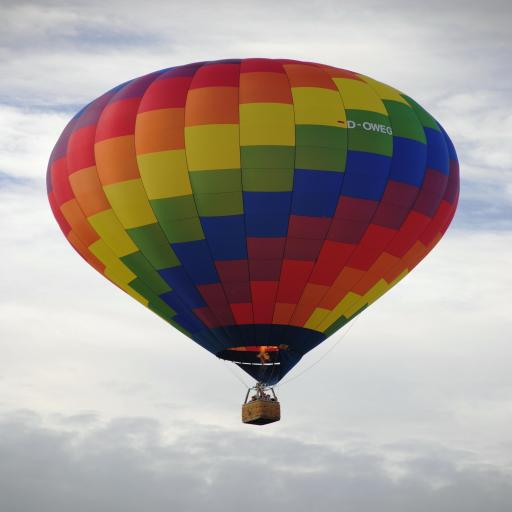hot air ballon: (46, 56, 464, 427)
